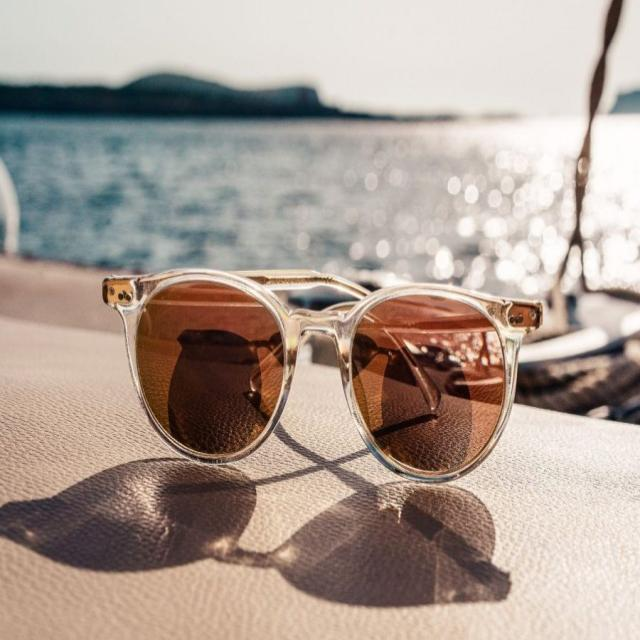sunglasses: (96, 266, 530, 485)
